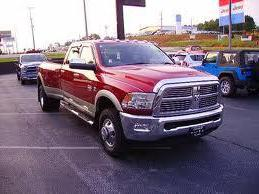Car: (36, 33, 227, 159), (15, 49, 51, 87)
